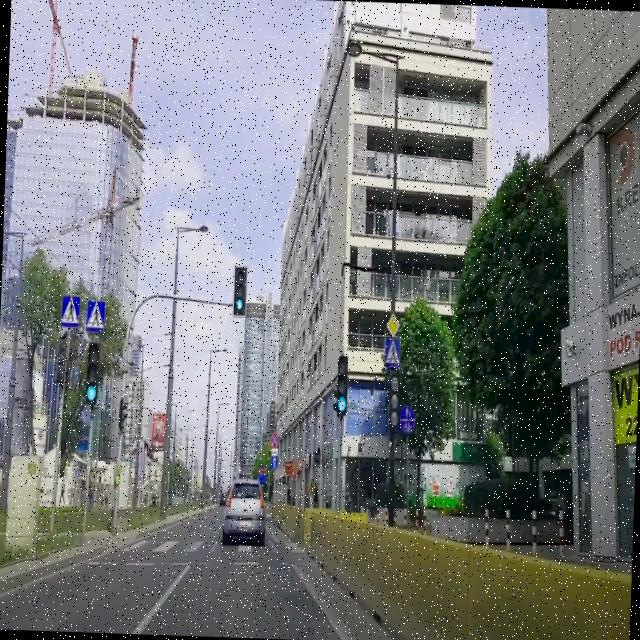Droga z pierwszenstwem: (384, 310, 402, 338)
Przejscie dla pieszych: (59, 293, 82, 328), (85, 297, 106, 334), (383, 338, 402, 370)
Zakaz zatrzymywania sie: (270, 429, 280, 448)
